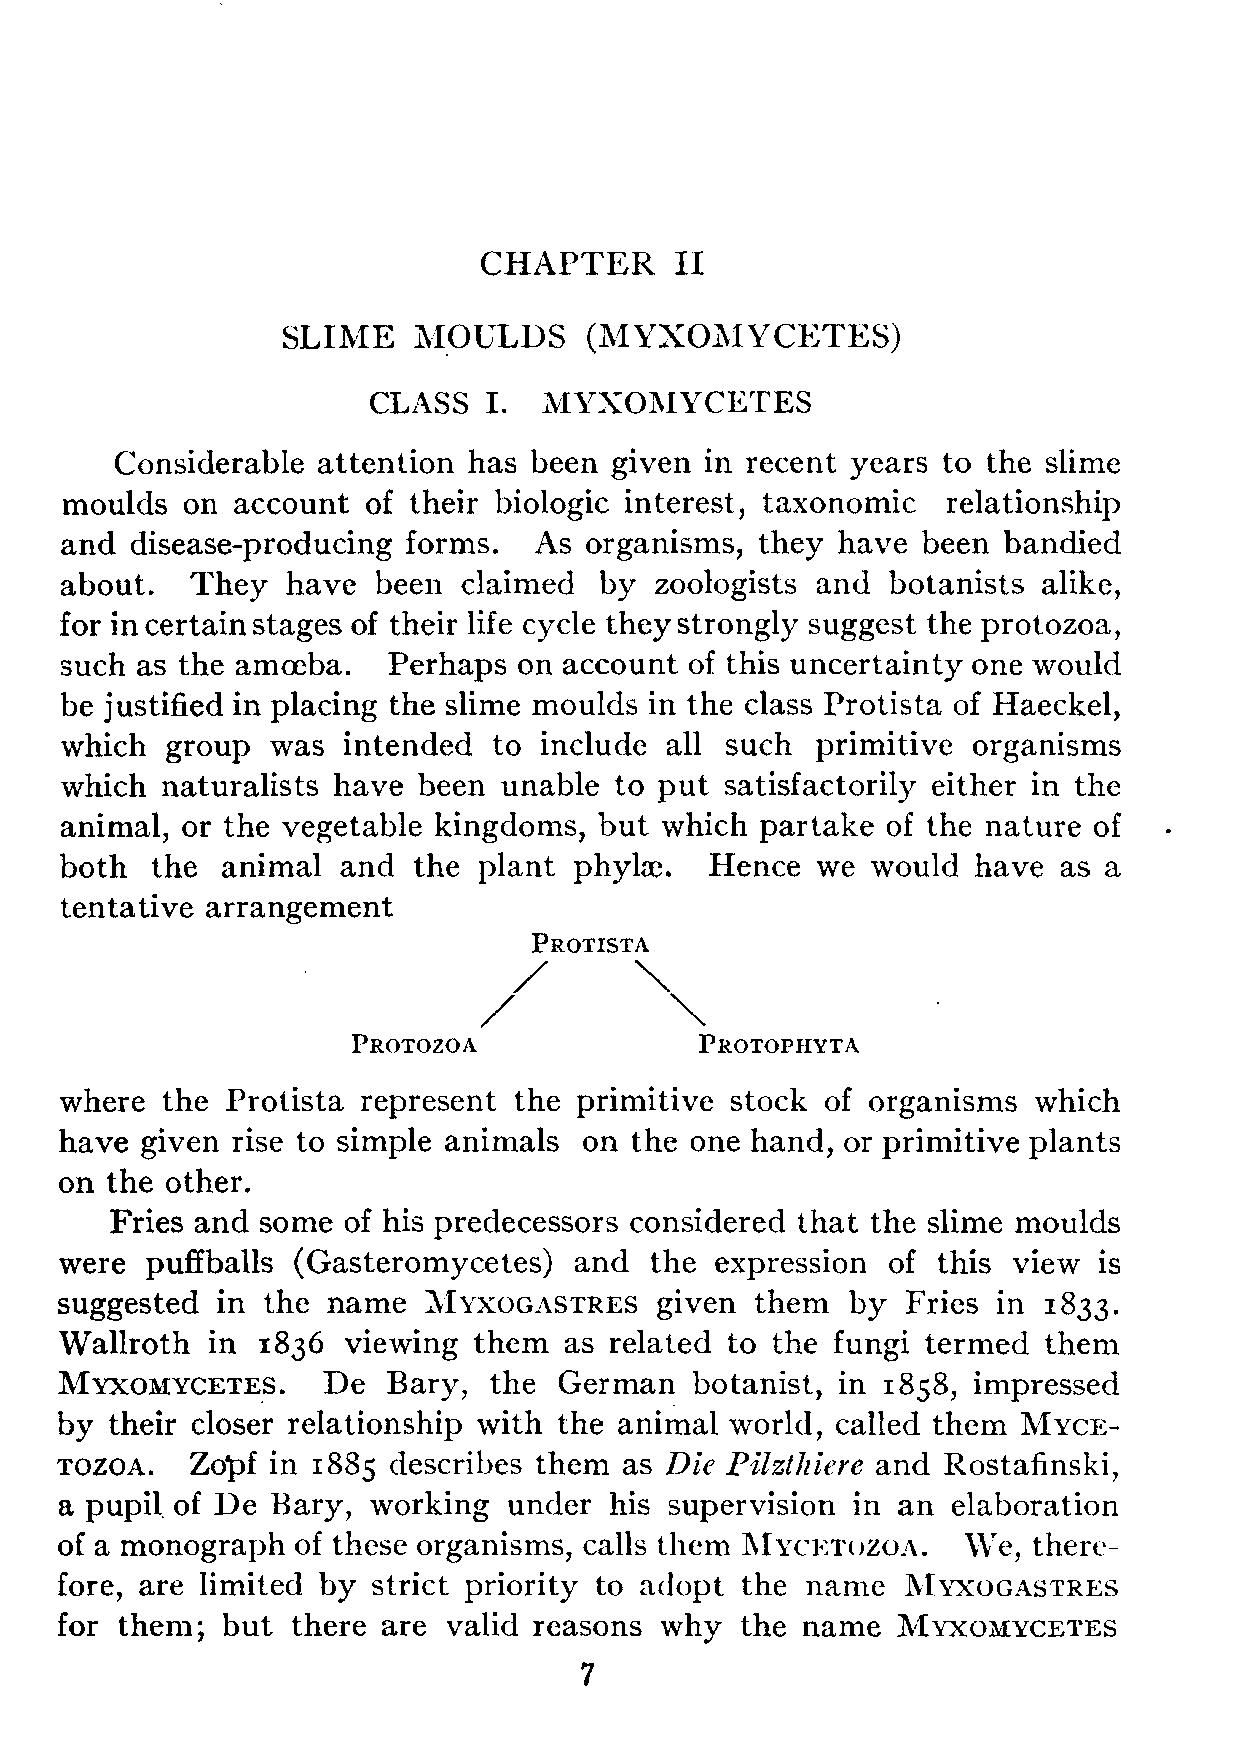chapter: (280, 247, 900, 415)
content: (56, 447, 1123, 1647)
content_pagenumber: (574, 1657, 597, 1691)
